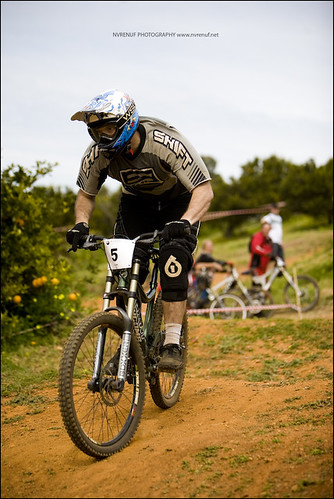helmet: (64, 87, 146, 167)
